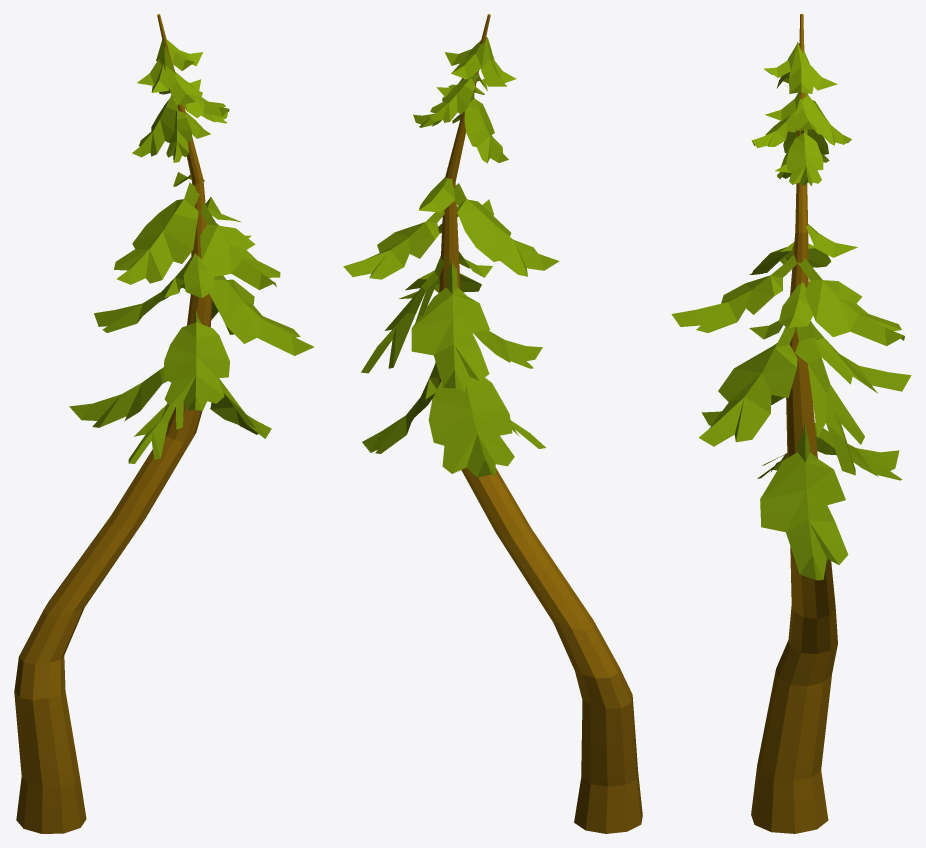
3 views of the same model, side by side, from view 1: azimuth 30°, elevation 25°; view 2: azimuth 150°, elevation 25°; view 3: azimuth 270°, elevation 25° (orthographic). The views are drawn at different scales.
Parts seen in each view (by area): view 1: SM_FreeTree_07; view 2: SM_FreeTree_07; view 3: SM_FreeTree_07.
Part boxes in pixels (left/top/right/bottom): SM_FreeTree_07: left=14, top=14, right=313, bottom=833; SM_FreeTree_07: left=343, top=14, right=642, bottom=833; SM_FreeTree_07: left=671, top=14, right=911, bottom=833.
Bounding box in the file's own units: 2.88 × 8.11 × 2.04.
Materials: 1 (1 with a texture image).
